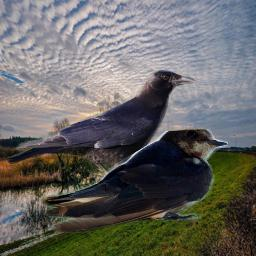Crow: (4, 68, 198, 208)
Swallow: (41, 128, 228, 233)
